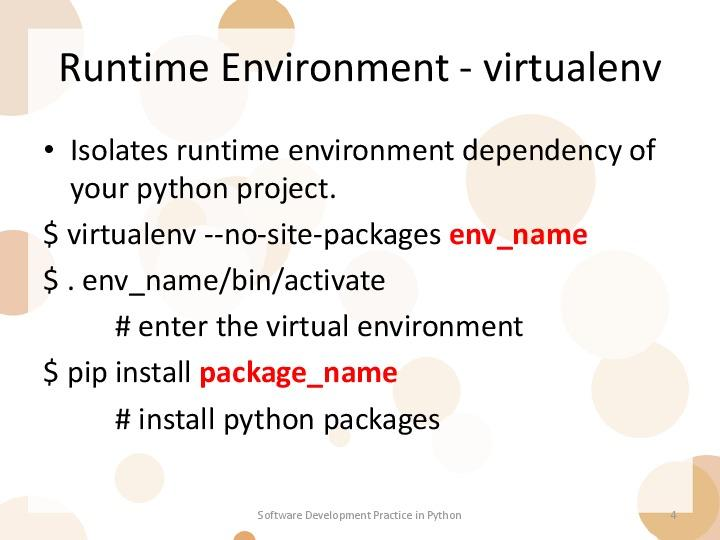paragraph: (27, 127, 697, 464)
title: (55, 39, 672, 107)
